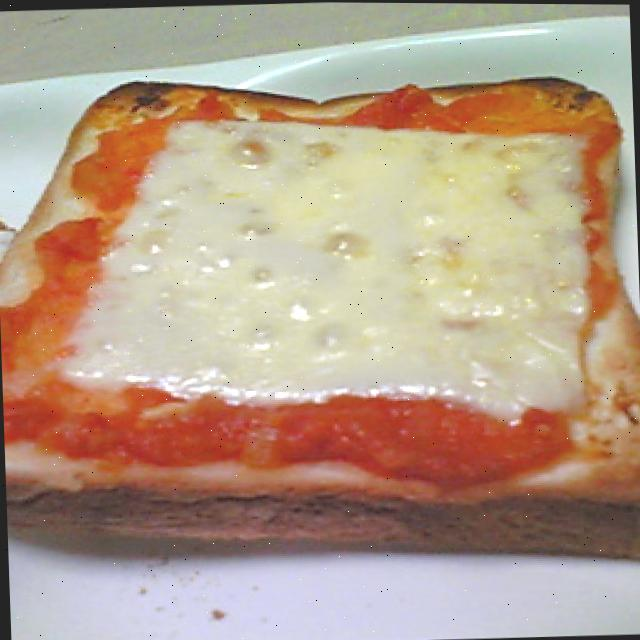面包点心: (0, 53, 640, 591)
